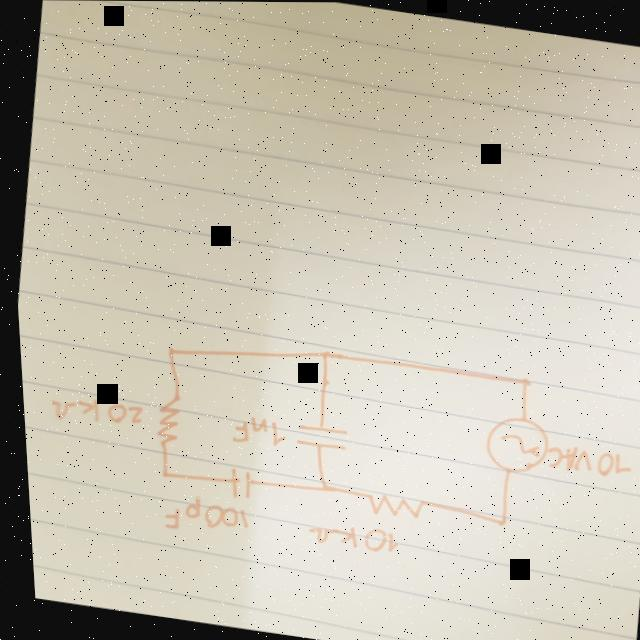capacitor: (282, 415, 348, 456), (214, 460, 256, 507)
junction: (482, 505, 508, 532), (306, 474, 328, 495), (157, 341, 179, 359), (312, 346, 333, 364), (510, 373, 529, 391), (150, 464, 168, 481)
resistor: (353, 484, 422, 523), (146, 393, 184, 445)
source: (474, 412, 550, 476)
text: (151, 490, 251, 543), (40, 391, 143, 434), (297, 514, 395, 556), (534, 438, 629, 479), (218, 410, 284, 449)
